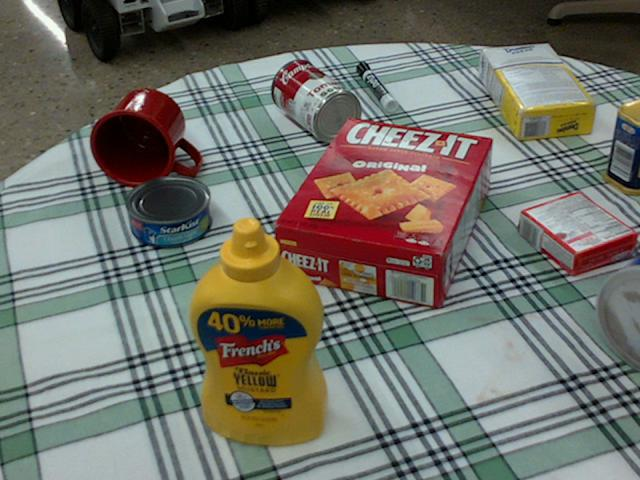cracker_box: (272, 118, 495, 307)
gelatin_box: (517, 191, 634, 272)
large_marker: (355, 61, 396, 110)
master_chef_can: (598, 255, 639, 371)
mug: (89, 88, 199, 186)
mustard_bottle: (188, 216, 329, 444)
potted_meat_can: (601, 98, 639, 195)
sugar_box: (478, 44, 597, 140)
tomato_soup_can: (270, 58, 360, 141)
tuna_fish_can: (123, 175, 210, 246)
